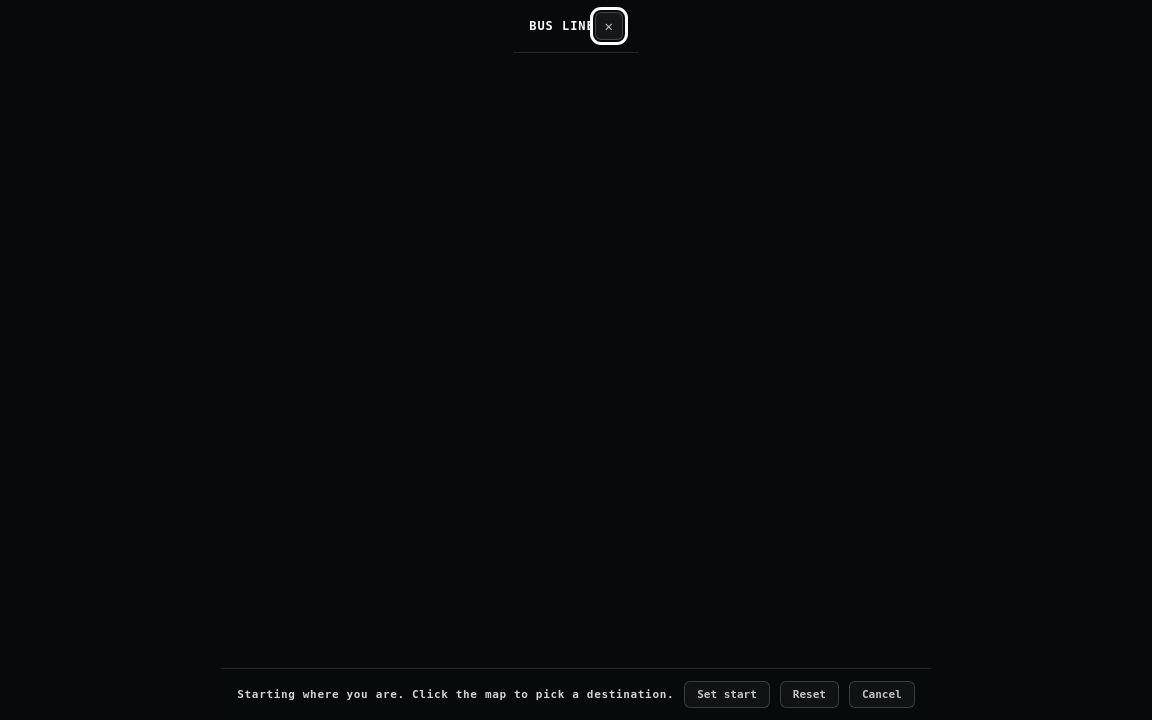
Test: BusOverMap › shows a fetch error distinctly
Click the element with test id "bus-map": click(576, 360) [0, 53, 1151, 668]
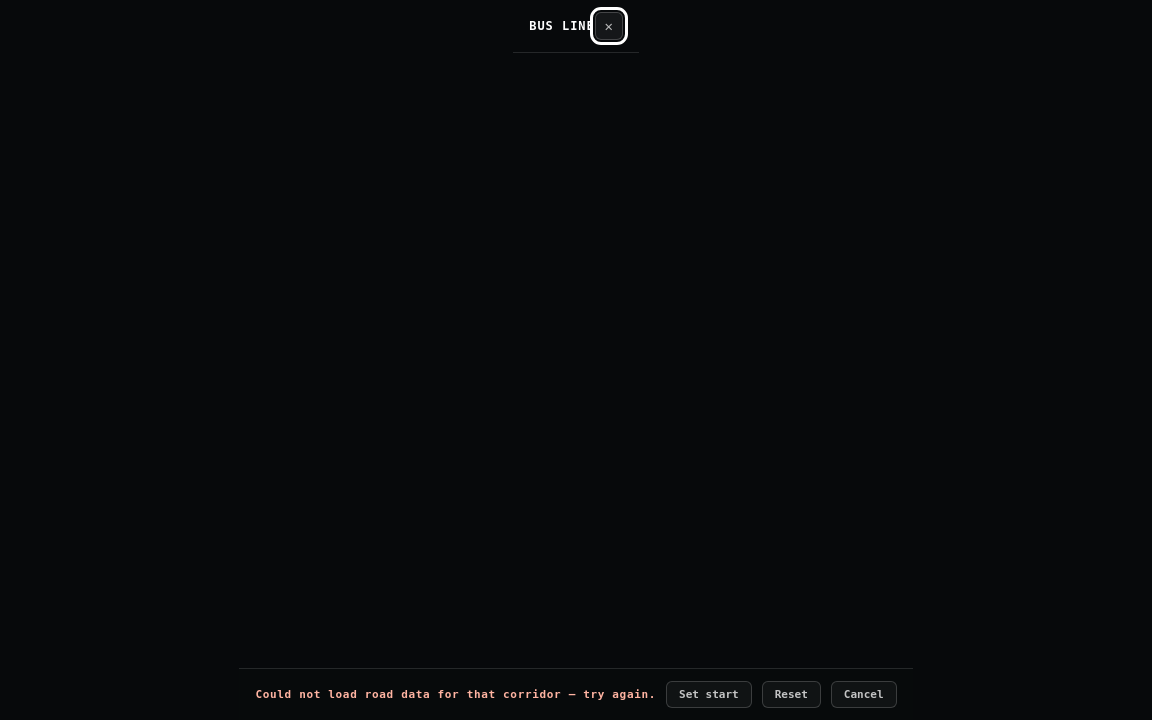
Check: the message shows "Could not load", box [256, 688, 656, 701]
